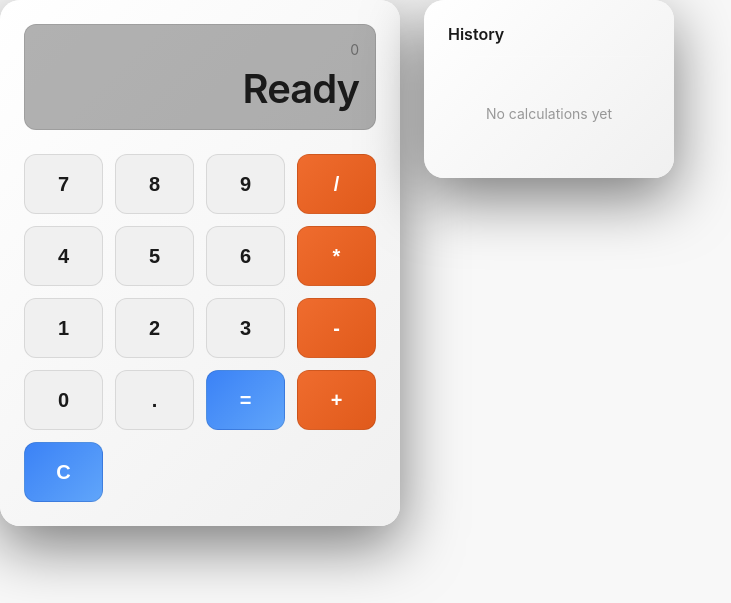
Test: Calculator Component - Basic Interactions › should append multiple digits
Click 1, 2, 3
Step 1. Click the button named "digit 1" → (64, 328), box [24, 298, 103, 358]
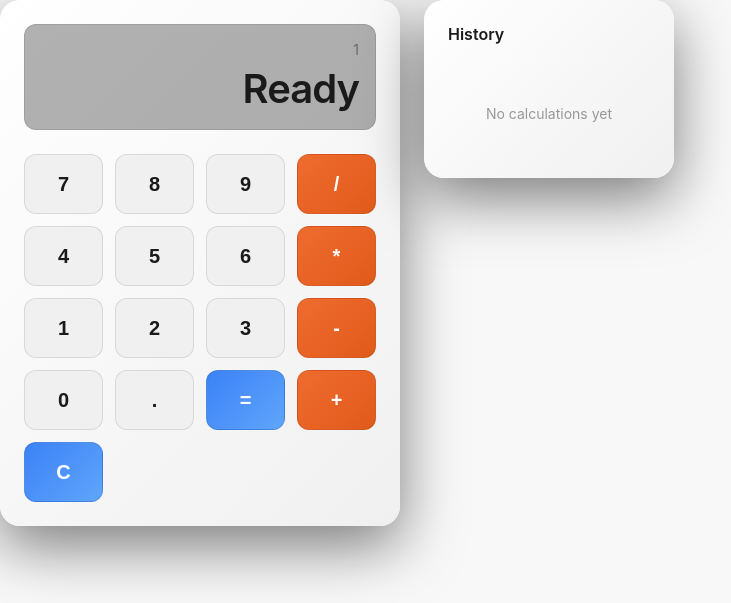
Step 2. Click the button named "digit 2" → (154, 328), box [115, 298, 194, 358]
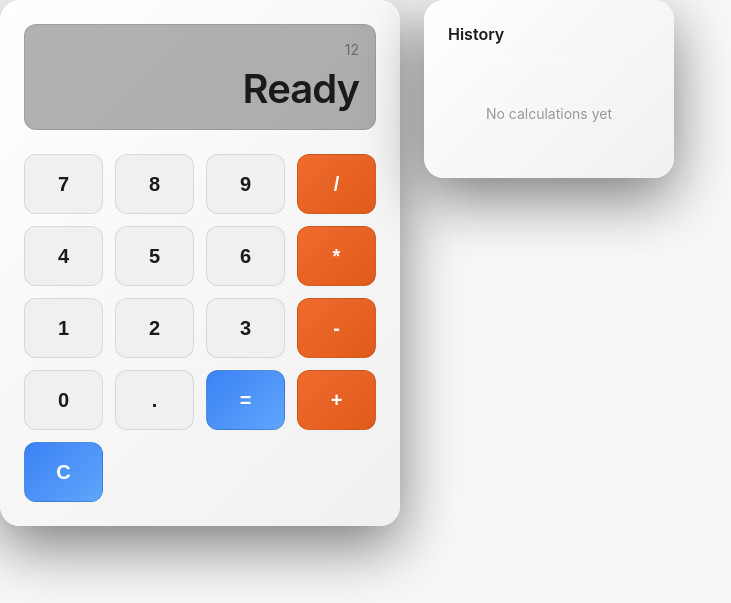
Step 3. Click the button named "digit 3" → (246, 328), box [206, 298, 285, 358]
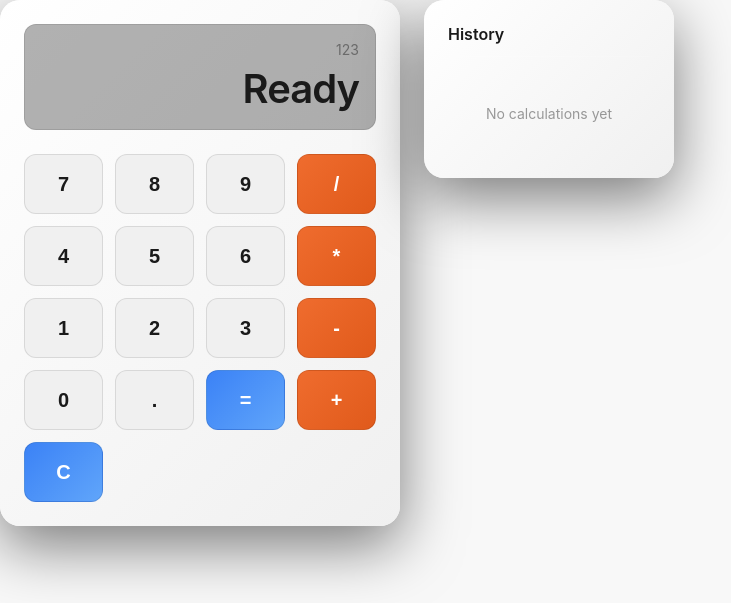
Expected: the message named "Calculator display" shows "123", [336, 41, 359, 58]
